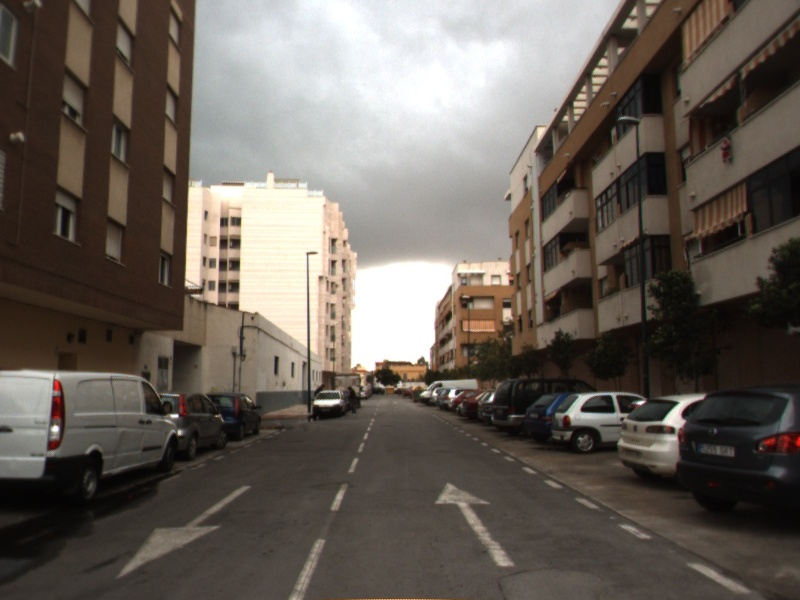STRAIGHT: (433, 480, 517, 568)
